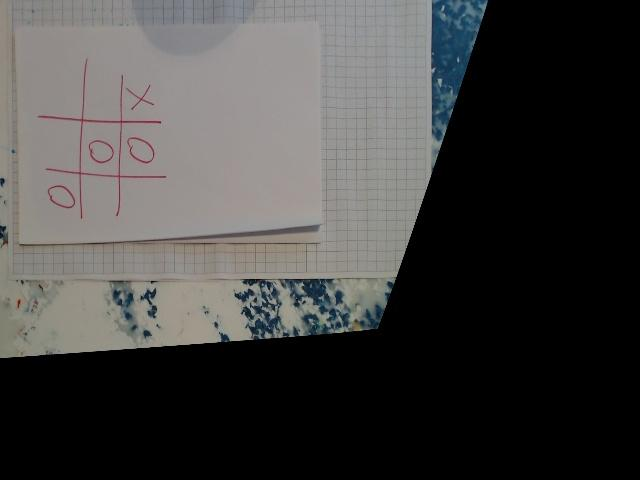O: (126, 134, 158, 165), (44, 184, 78, 212), (85, 136, 116, 166)
X: (124, 82, 156, 113)
grid: (36, 59, 173, 222)
